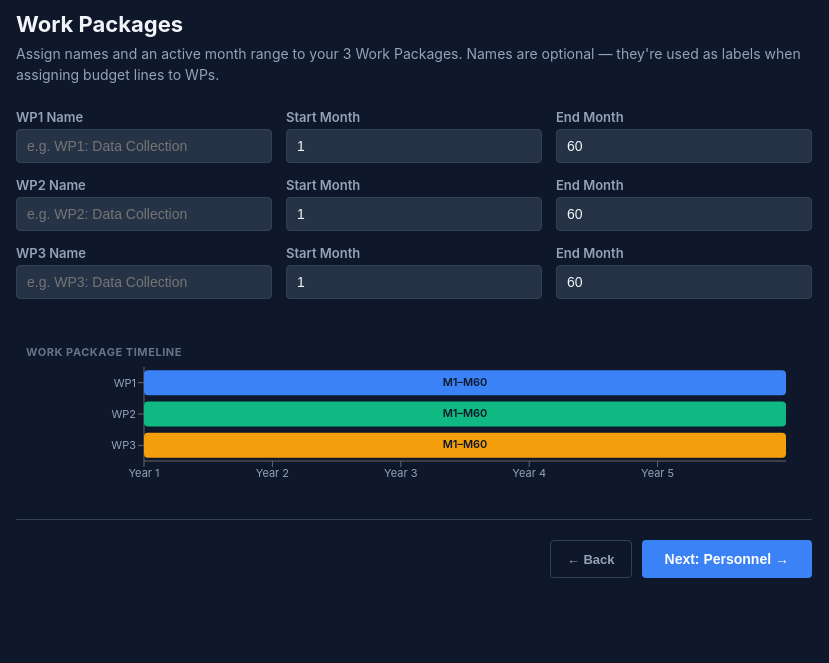
Work Packages step › shows the backend validation message instead of silently doing nothing
What coordinates should you click on to do the following:
click the button "Next: Personnel →"
I would click on:
 (727, 559)
Its box is [642,540,812,578].
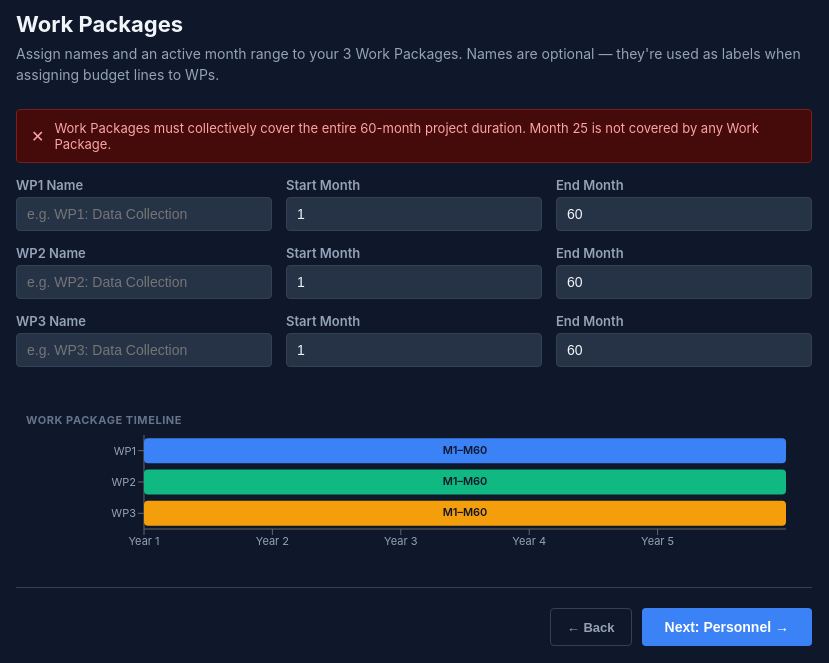
Result: the text "Month 25 is not covered by any Work Package" is shown at [54,120,759,152]
